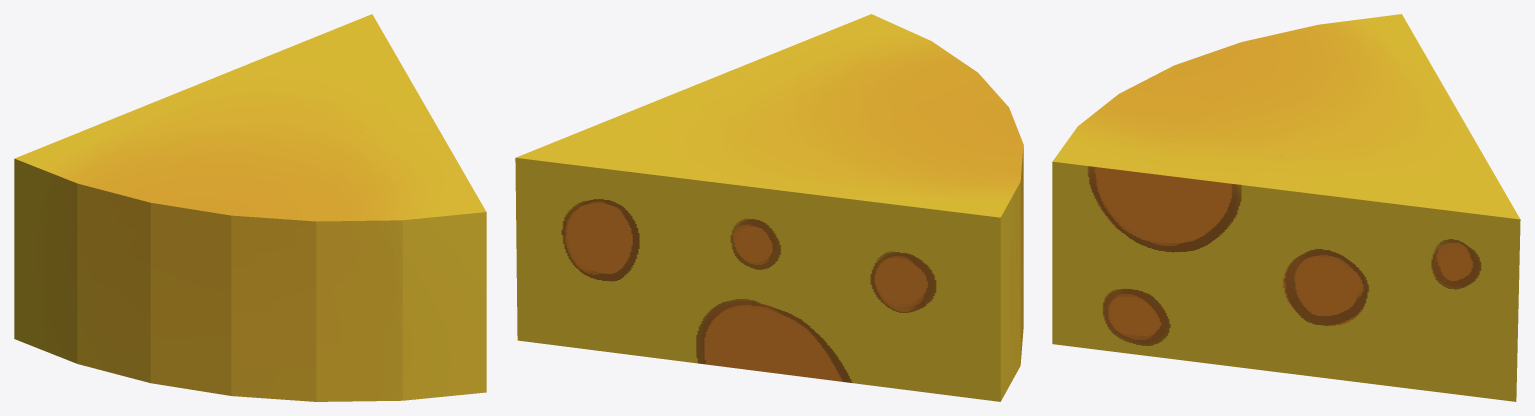
The model's file is cheese.fbx.
The picture shows the model from 3 angles, left to right: view 1: azimuth 30°, elevation 25°; view 2: azimuth 150°, elevation 25°; view 3: azimuth 270°, elevation 25°; orthographic projection. The views are drawn at different scales.
Visible parts, largest first — view 1: Cheese; view 2: Cheese; view 3: Cheese.
Part boxes in pixels (bbox=[...]): Cheese: bbox=[14, 14, 486, 401]; Cheese: bbox=[515, 14, 1023, 401]; Cheese: bbox=[1052, 14, 1520, 401].
Size of the model in its own units: 28.72 by 11.89 by 27.64.
Materials: 1 (1 with a texture image).
